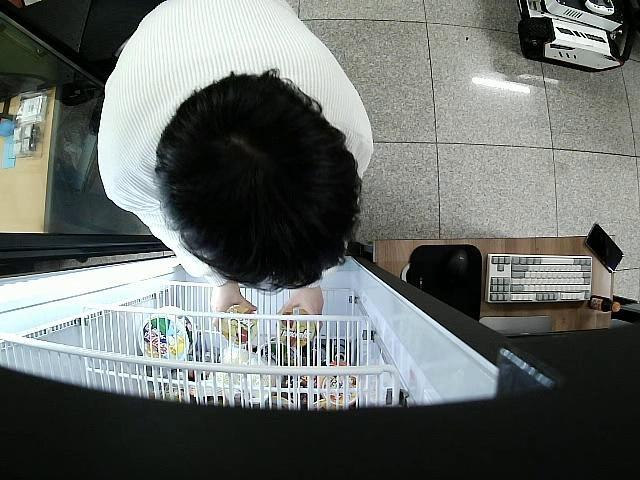04_chapagetti_S: (218, 307, 258, 346), (278, 310, 317, 347)
